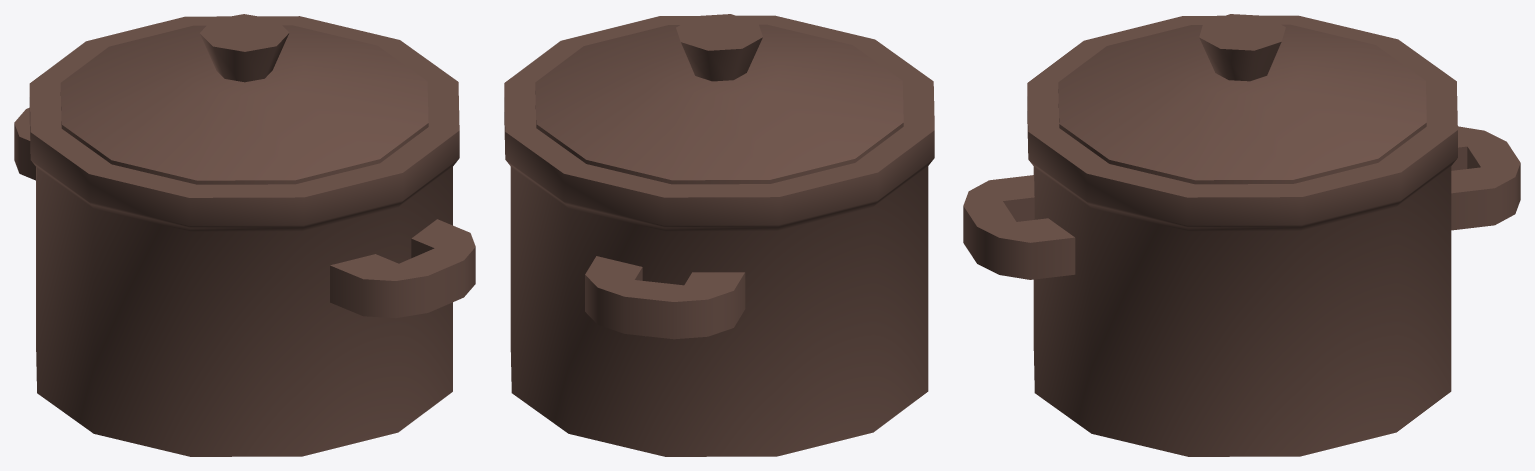
File: CookingPot.fbx
The picture shows the model from 3 angles, left to right: view 1: azimuth 30°, elevation 25°; view 2: azimuth 150°, elevation 25°; view 3: azimuth 270°, elevation 25°; orthographic projection.
Visible parts, largest first — view 1: CookingPot; view 2: CookingPot; view 3: CookingPot.
Part boxes in pixels (x1,y1,x2,y2): CookingPot: (14,14,475,456); CookingPot: (504,14,934,456); CookingPot: (963,14,1520,456).
Size of the model in its own units: 28.4 by 24.47 by 36.74.
